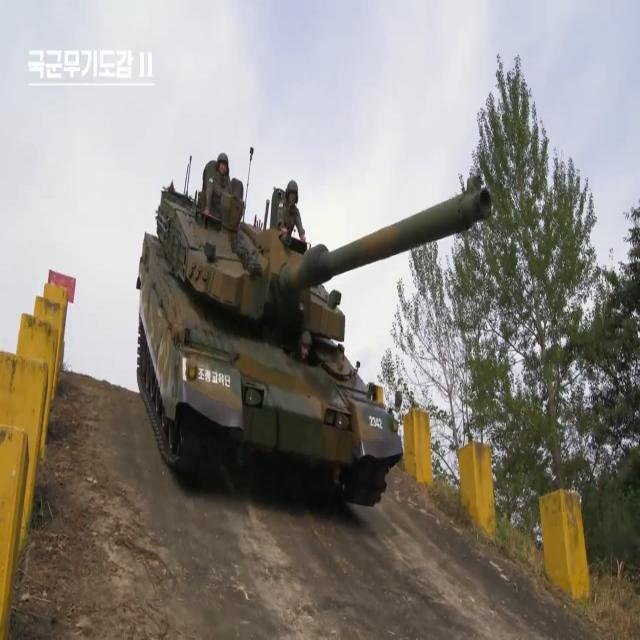korea tank: (135, 144, 493, 509)
